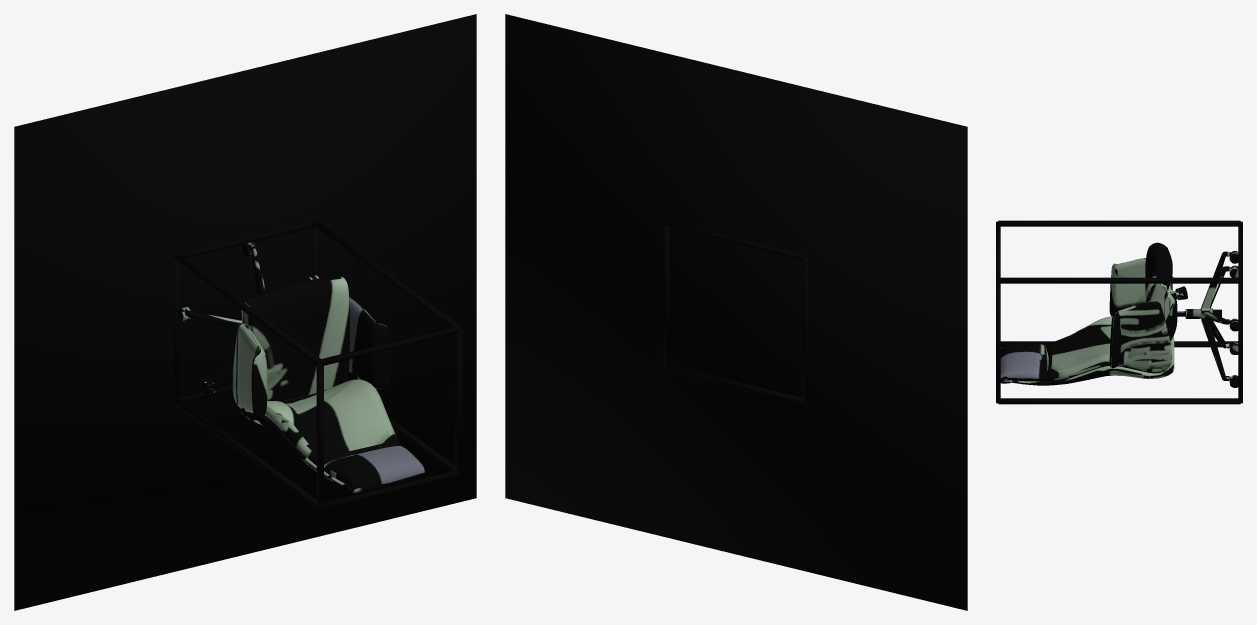
3 views of the same model, side by side, from view 1: azimuth 30°, elevation 25°; view 2: azimuth 150°, elevation 25°; view 3: azimuth 270°, elevation 25° (orthographic). The views are drawn at different scales.
Bounding box in the file's own units: 2 × 2 × 1.1.
